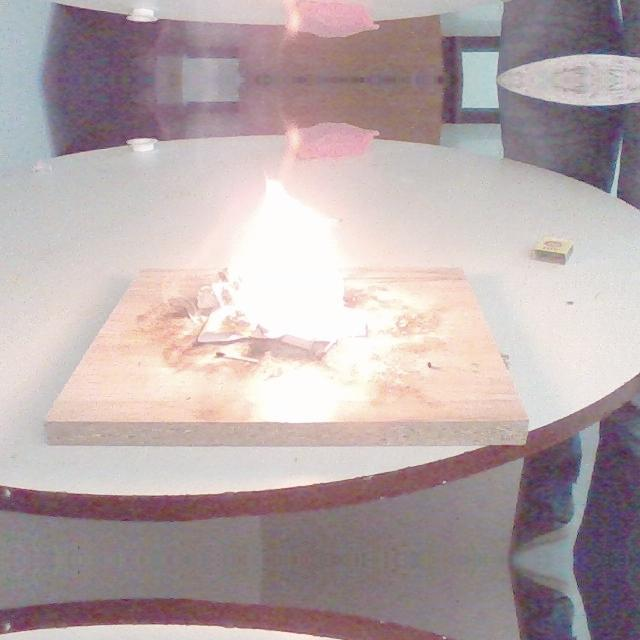smoke: (226, 174, 348, 339)
